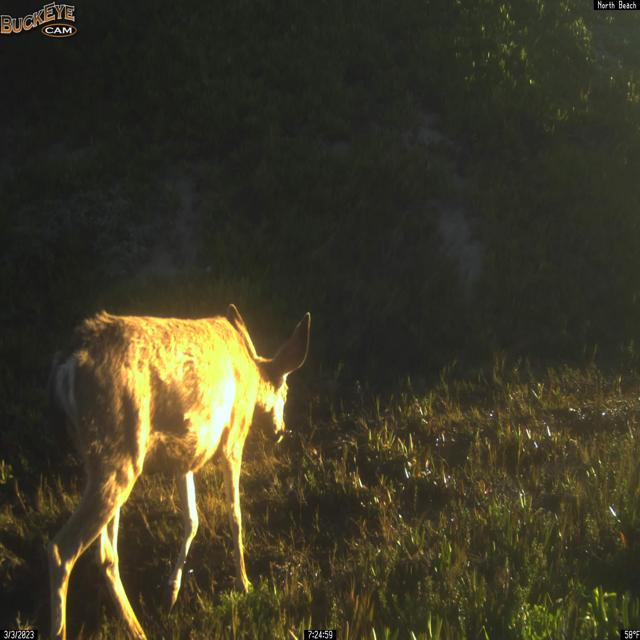deer: (44, 302, 312, 640)
